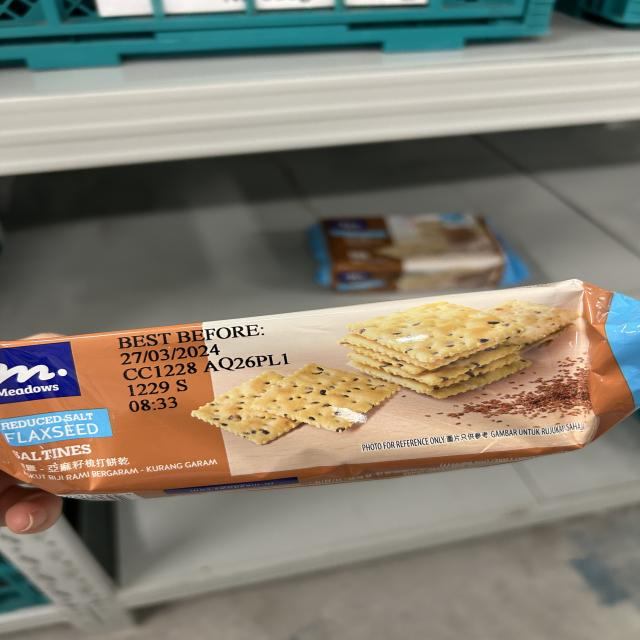object_name: (9, 339, 589, 450)
